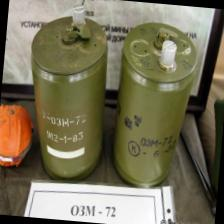OZM-72: (20, 13, 118, 186), (111, 17, 194, 194)
